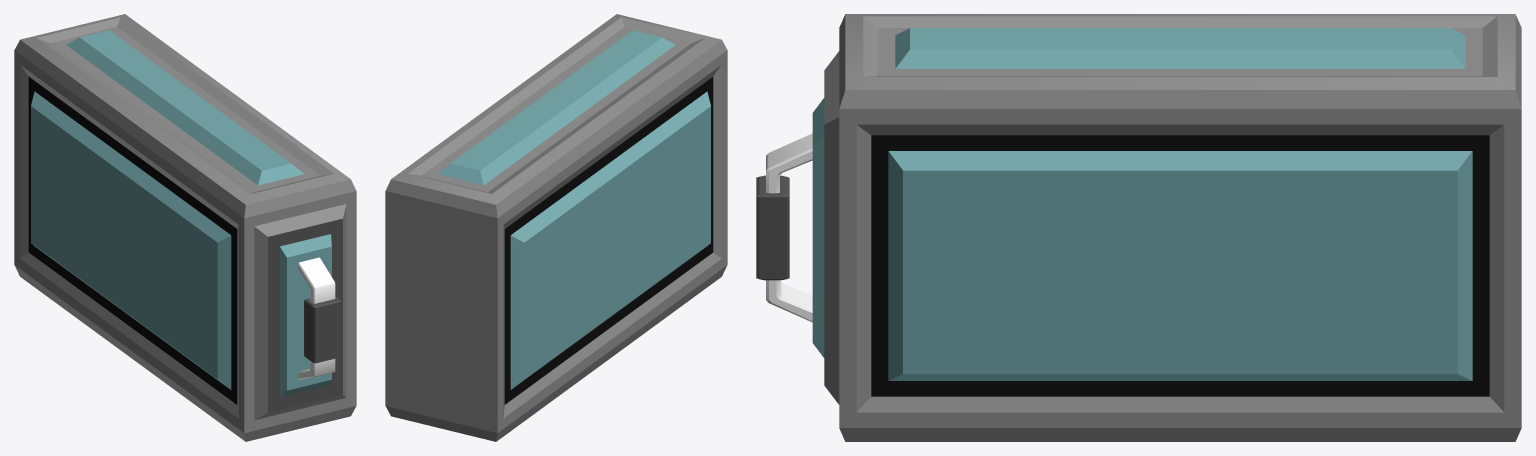
3 views of the same model, side by side, from view 1: azimuth 30°, elevation 25°; view 2: azimuth 150°, elevation 25°; view 3: azimuth 270°, elevation 25° (orthographic). The views are drawn at different scales.
Visible parts, largest first — view 1: Plane003.004; view 2: Plane003.004; view 3: Plane003.004.
Part boxes in pixels (x1,y1,x2,y2): Plane003.004: (14,14,356,441); Plane003.004: (385,14,727,441); Plane003.004: (756,14,1521,441).
Size of the model in its own units: 26.06 by 50.83 by 95.11.
